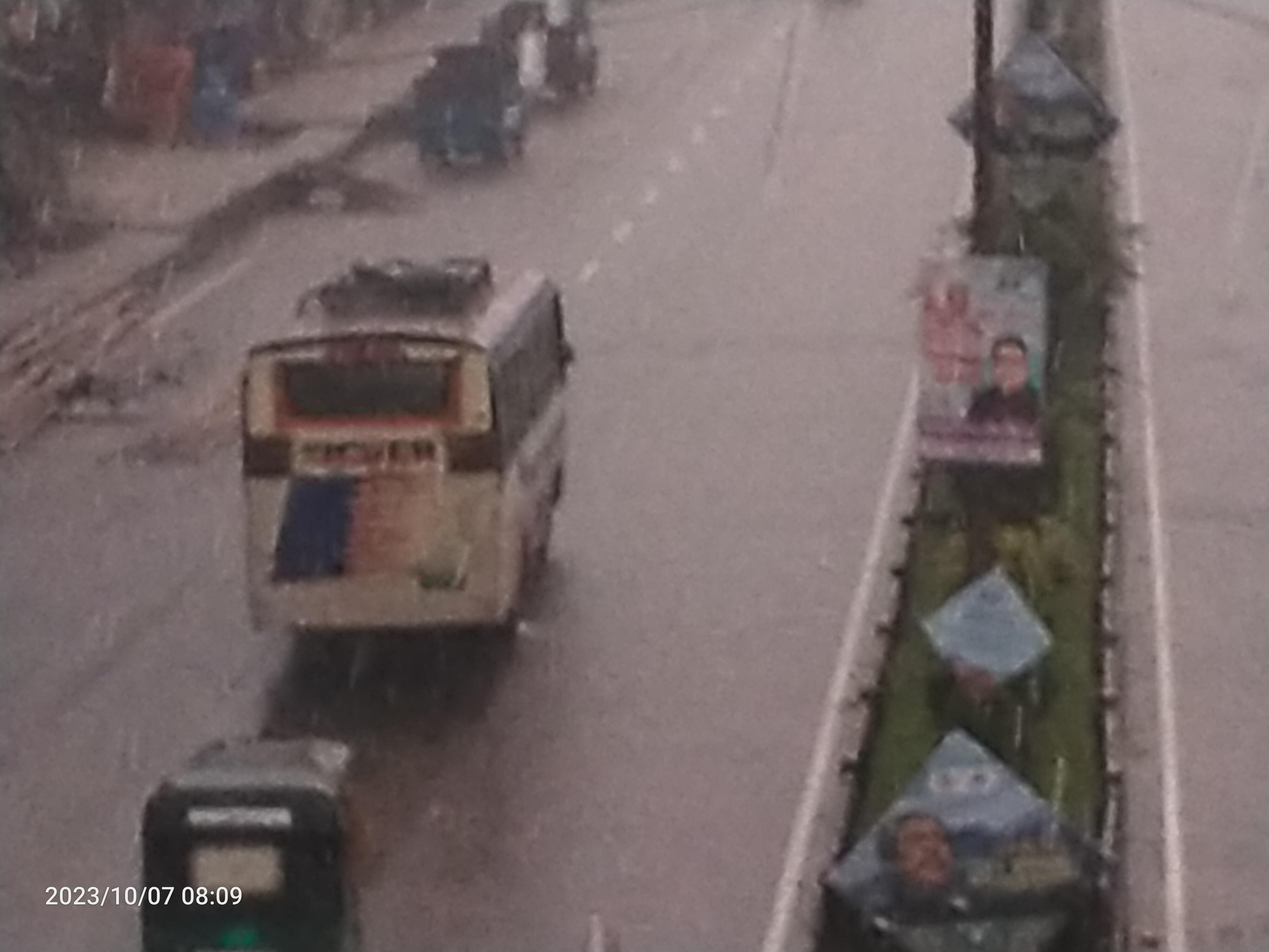Bus: (155, 232, 615, 684)
Truck: (375, 23, 544, 184), (476, 0, 609, 110)
